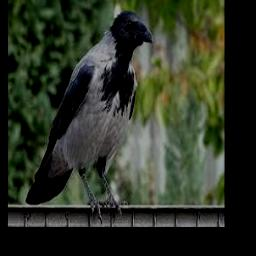Crow: (25, 10, 153, 224)
